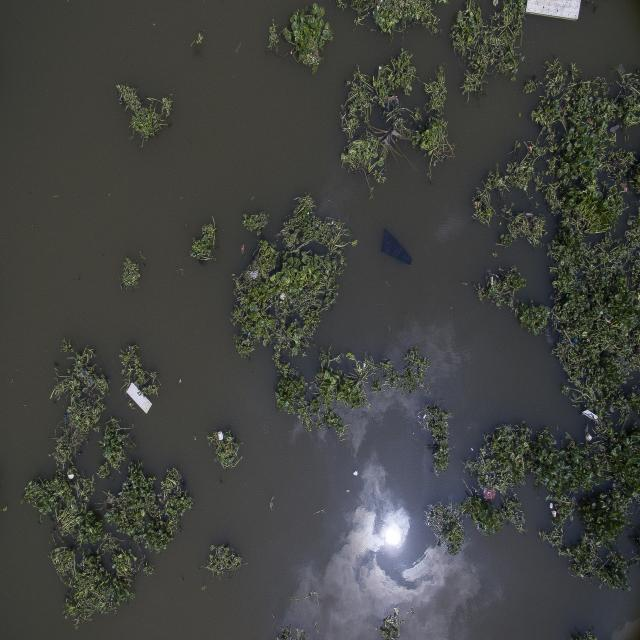debris: (381, 224, 413, 267), (523, 0, 588, 18), (124, 383, 155, 415), (380, 96, 404, 110), (381, 130, 402, 144), (583, 407, 599, 422), (547, 502, 558, 519), (374, 0, 381, 14), (217, 429, 223, 442), (343, 78, 349, 90), (352, 468, 359, 478), (68, 472, 76, 480), (403, 65, 411, 73), (584, 434, 593, 441), (622, 184, 628, 193), (572, 336, 578, 344), (527, 146, 533, 154), (246, 331, 252, 338), (177, 378, 182, 386), (378, 64, 382, 70)
plastic: (355, 357, 367, 372), (249, 266, 259, 282), (608, 122, 620, 133), (178, 478, 187, 489), (279, 291, 286, 301), (524, 211, 534, 218), (490, 0, 500, 7), (77, 449, 84, 458), (497, 15, 504, 24), (62, 412, 72, 418), (598, 309, 605, 316), (127, 343, 132, 352), (141, 261, 147, 268), (421, 412, 426, 420), (307, 208, 311, 217), (470, 445, 474, 452), (474, 203, 478, 209)
